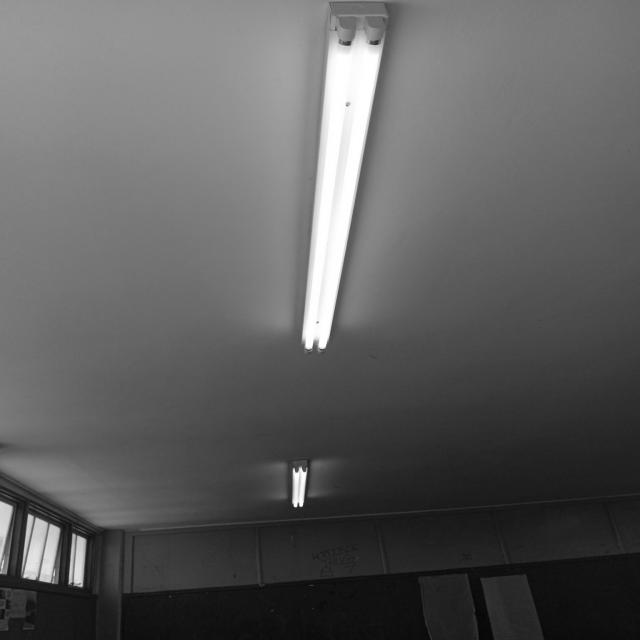light: (300, 1, 389, 354), (290, 459, 309, 508)
